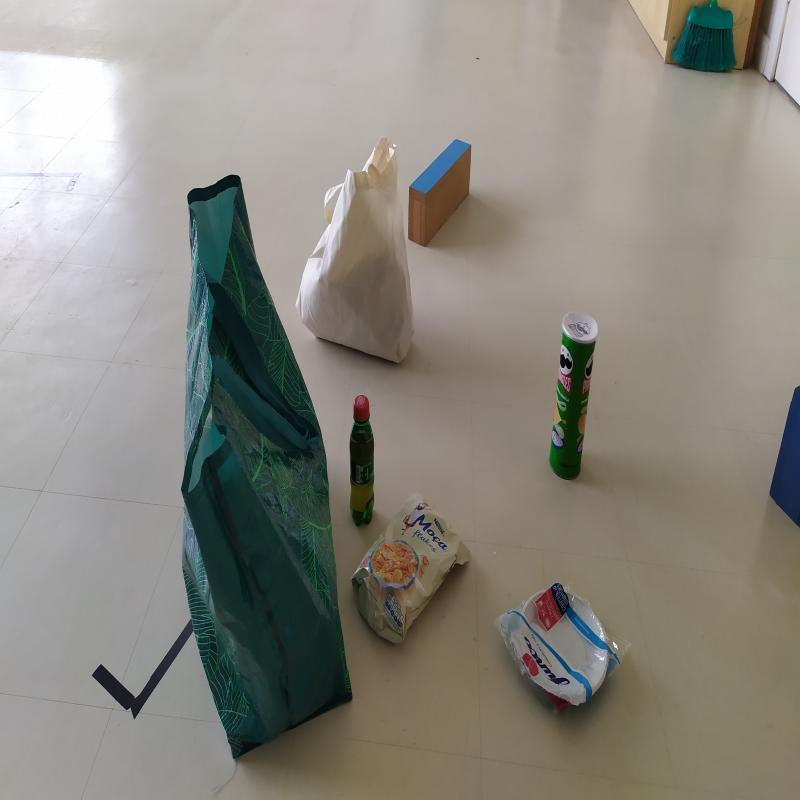Bag: (176, 176, 342, 767), (299, 141, 418, 365)
CornFlakes: (353, 494, 474, 648)
Guarana: (349, 396, 375, 529)
Plate: (514, 583, 614, 707)
Pringles: (548, 312, 597, 484)
